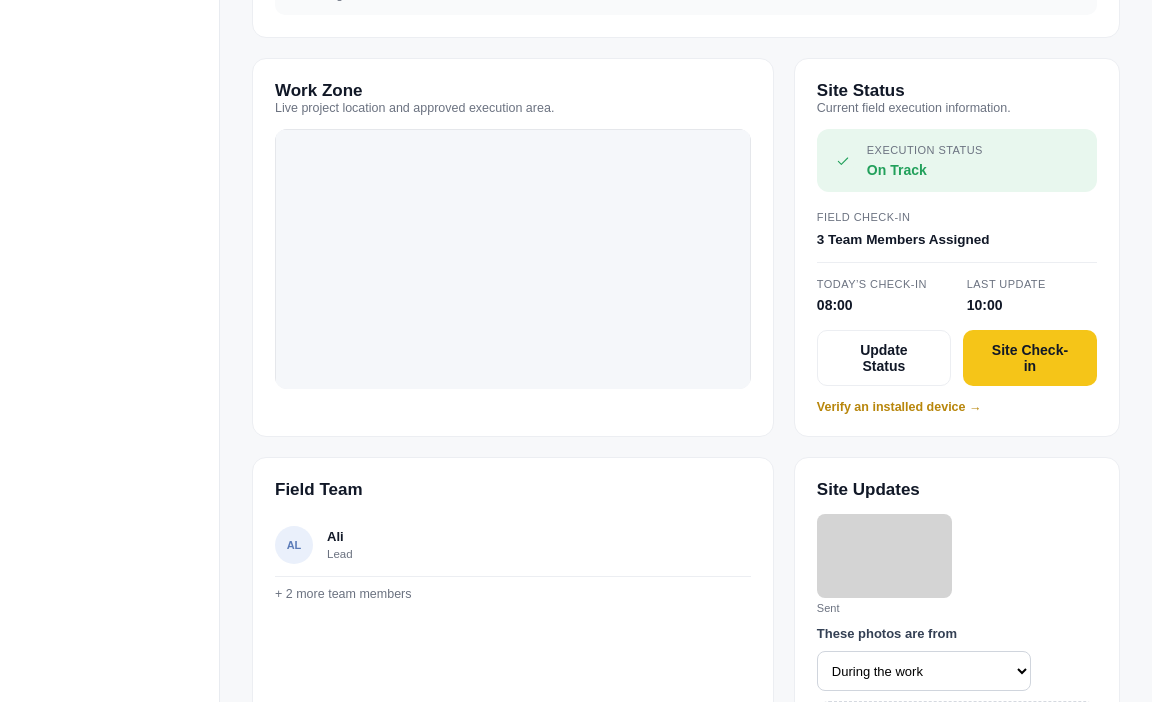
Test: FieldExecution - حالة الموقع والحضور › تغيير الحالة بنجاح
The image size is (1152, 702).
(page scrolled)
Click the button "Update Status" at coordinates (884, 358), box [817,330,951,386]
(page scrolled)
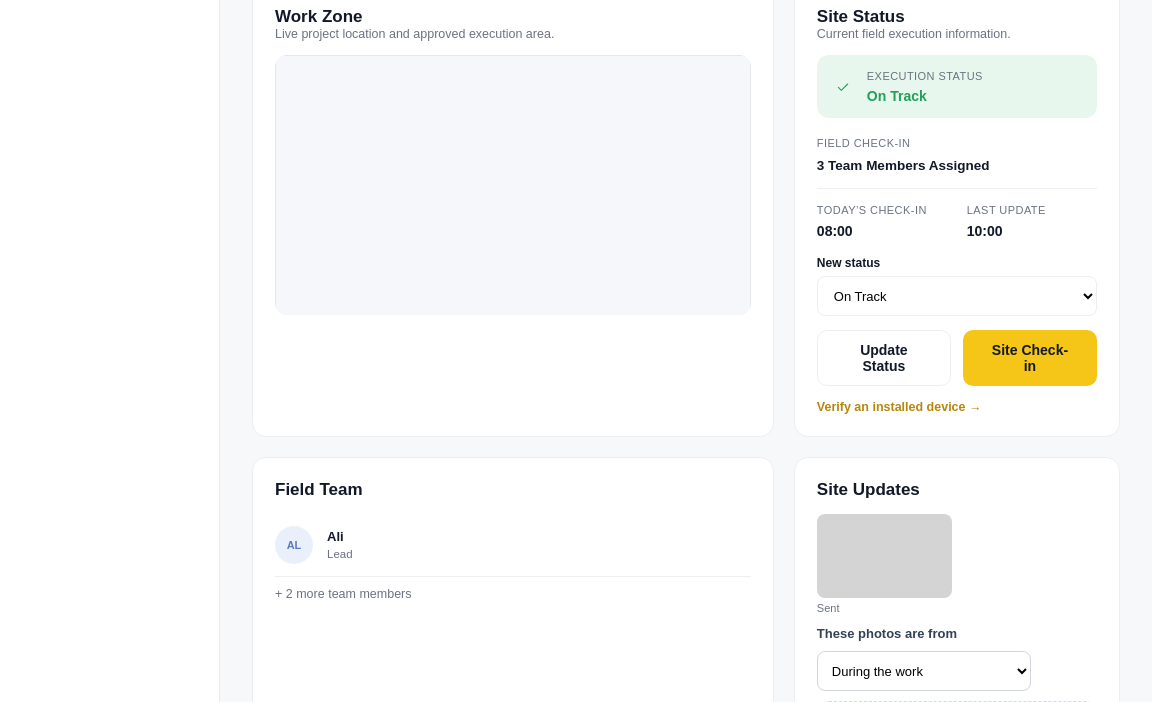
Select "Delayed" in the dropdown labelled "New status" at coordinates (957, 296), box [817,276,1097,316]
(page scrolled)
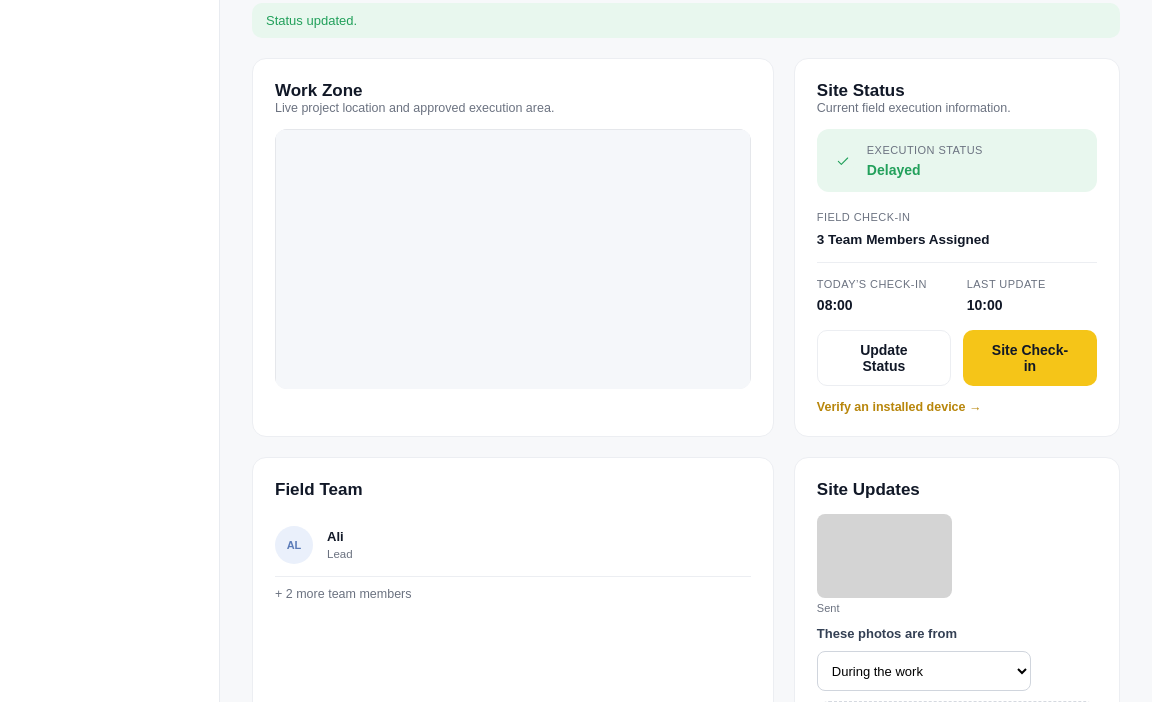
Now the text "Status updated." is shown, box [252,3,1120,38]
Now the label labelled "New status" is gone
Now the text "Delayed" is shown, box [867,162,920,178]
